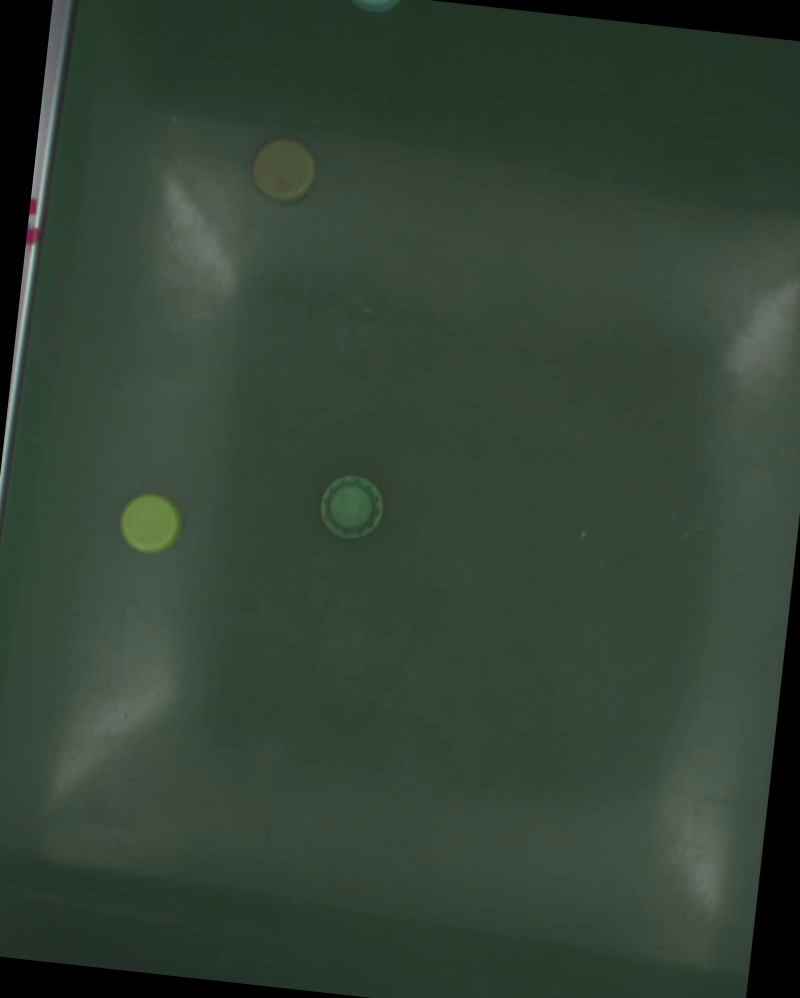Others: (248, 136, 320, 204), (316, 472, 388, 539), (113, 491, 184, 558)
